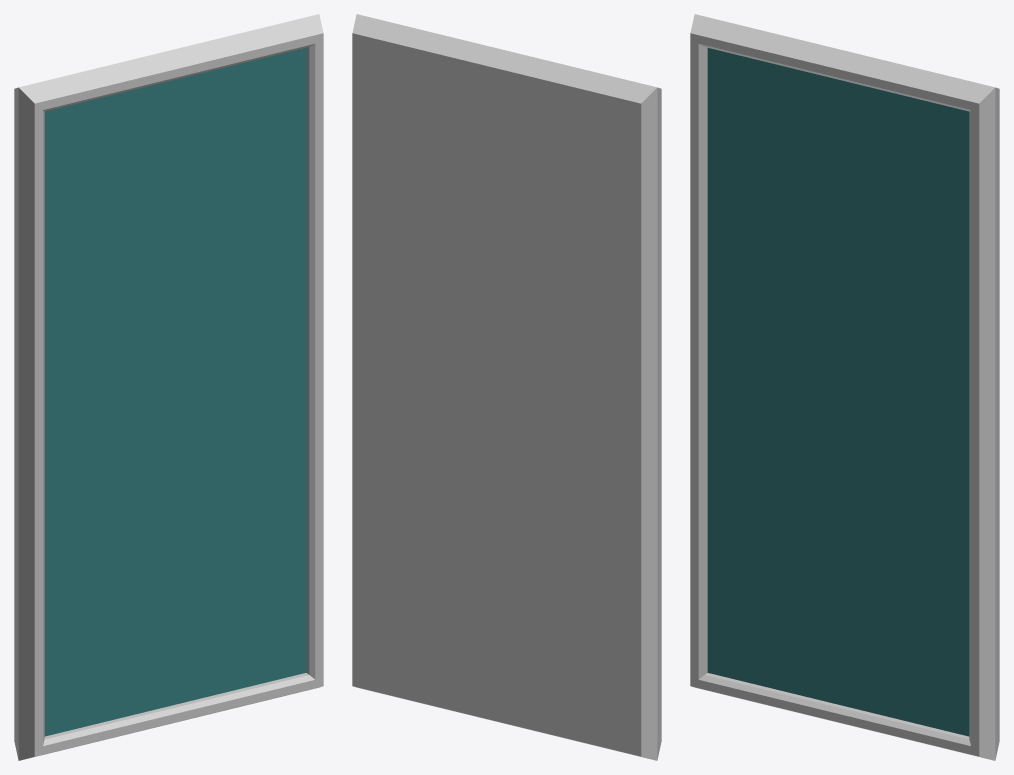
The model's file is Mirror A.glb.
3 views of the same model, side by side, from view 1: azimuth 30°, elevation 25°; view 2: azimuth 150°, elevation 25°; view 3: azimuth 330°, elevation 25° (orthographic).
Parts seen in each view (by area): view 1: Mirror A; view 2: Mirror A; view 3: Mirror A.
Part boxes in pixels (x1,y1,x2,y2): Mirror A: [14, 14, 323, 760]; Mirror A: [352, 14, 661, 760]; Mirror A: [690, 14, 999, 760].
Size of the model in its own units: 332 by 710 by 38.9.
